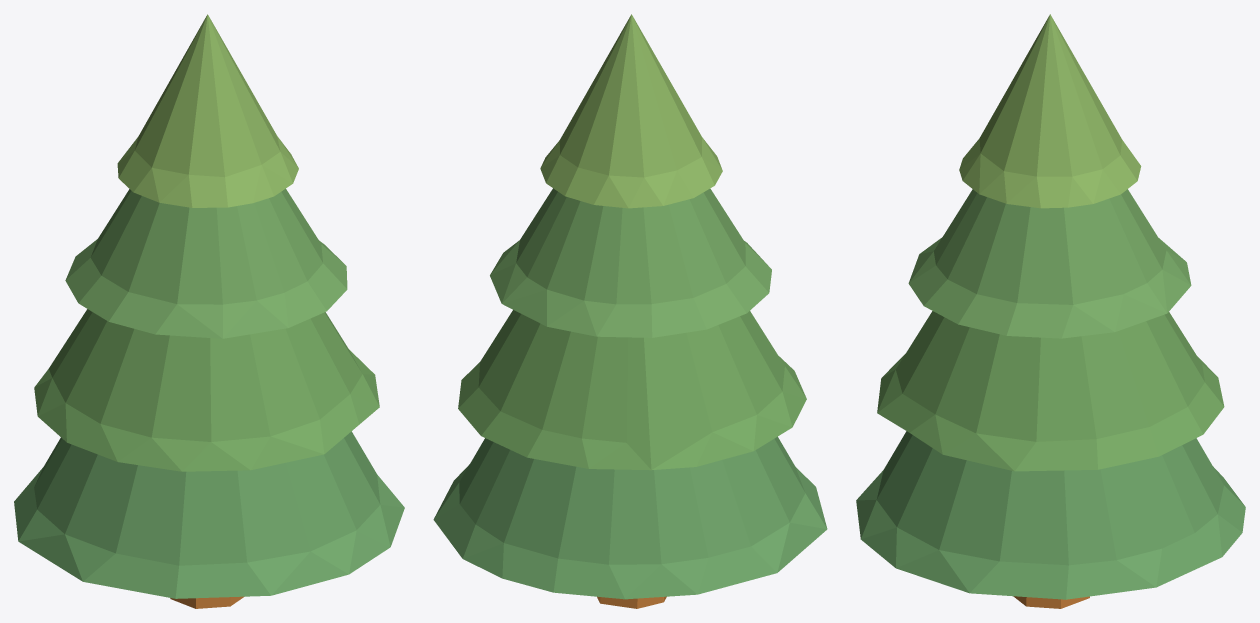
Rendered from kuusi3.fbx.
3 renders of one model, left to right at view 1: azimuth 30°, elevation 25°; view 2: azimuth 150°, elevation 25°; view 3: azimuth 270°, elevation 25°, orthographic.
Parts seen in each view (by area): view 1: Cone.003, Cone.002, Cone.001, Cone, Cylinder; view 2: Cone.003, Cone.002, Cone.001, Cone, Cylinder; view 3: Cone.003, Cone.002, Cone.001, Cone, Cylinder.
Boxes of the visible parts, x1,y1,x2,y2 form: Cone.003: (14, 431, 404, 598); Cone.002: (34, 309, 379, 471); Cone.001: (65, 188, 347, 338); Cone: (117, 14, 298, 207); Cylinder: (170, 596, 244, 608); Cone.003: (433, 436, 827, 599); Cone.002: (458, 310, 806, 470); Cone.001: (490, 188, 771, 337); Cone: (540, 14, 722, 208); Cylinder: (597, 596, 666, 608); Cone.003: (856, 431, 1245, 599); Cone.002: (877, 311, 1224, 471); Cone.001: (908, 189, 1191, 338); Cone: (959, 14, 1141, 208); Cylinder: (1013, 596, 1089, 608).
Size of the model in its own units: 290 by 474 by 290.
